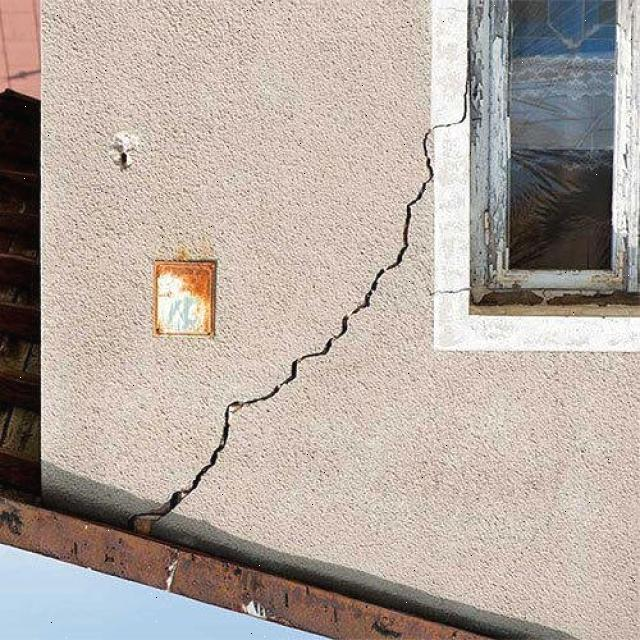corrosion: (142, 230, 228, 362)
crack: (109, 49, 600, 553)
